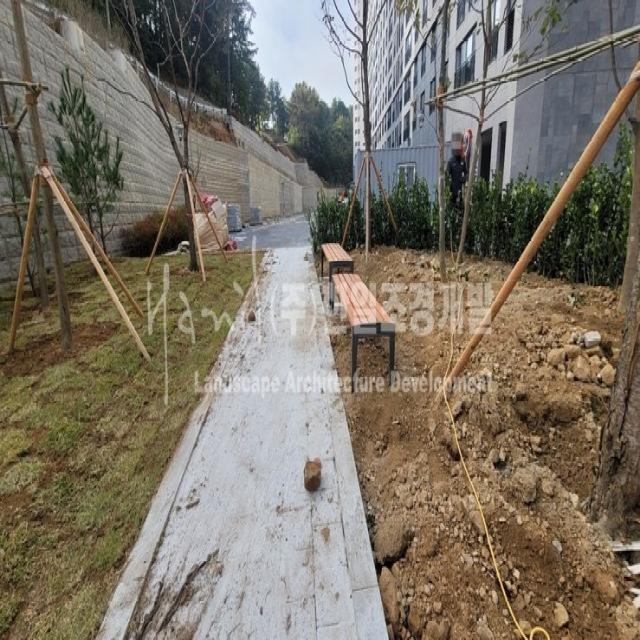plant: (305, 119, 640, 287), (394, 0, 580, 281), (109, 0, 227, 271), (0, 0, 73, 341), (321, 0, 388, 247), (46, 62, 125, 258)
wood: (437, 58, 640, 400), (42, 168, 152, 360), (50, 170, 145, 318), (6, 169, 39, 353)
